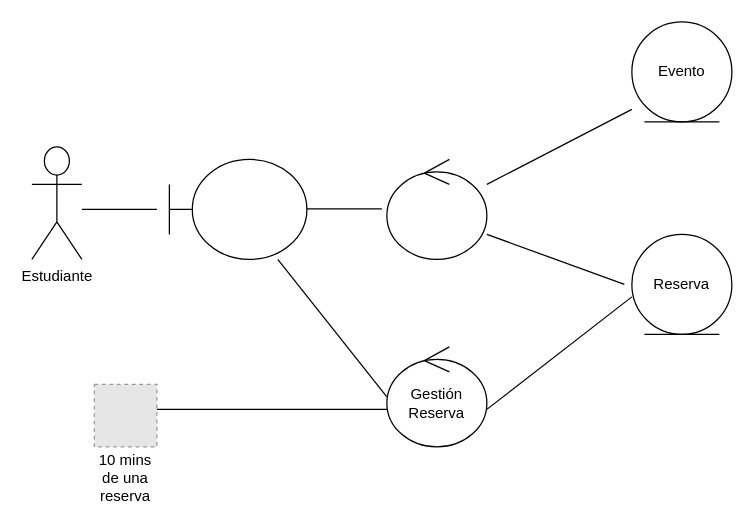
Some shapes in this 754 by 526 pixel diagram are drawn without their labels. Grey dashed boxes stand in for pictures. Each missing label, with the box of its shape:
CalculoDisp Cupos: (386, 158, 487, 259)
PantallaEvento: (168, 158, 307, 259)
